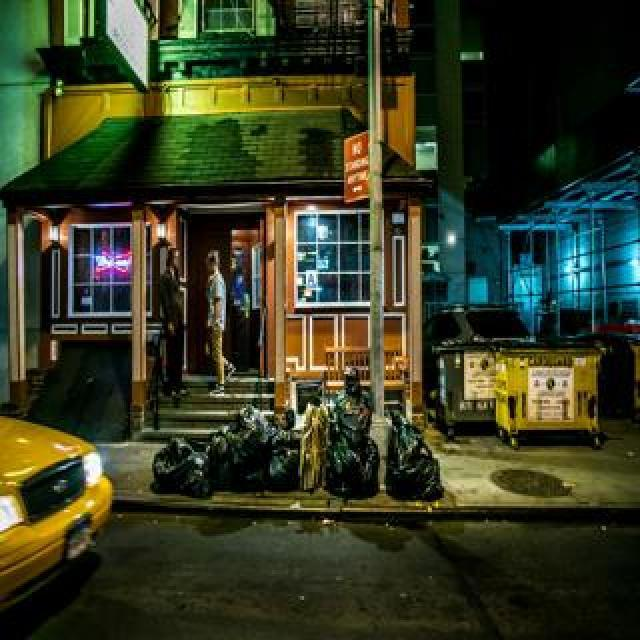high trash: (152, 391, 442, 500)
